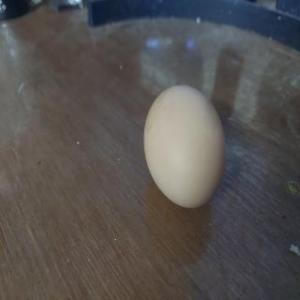egg: (142, 82, 226, 210)
